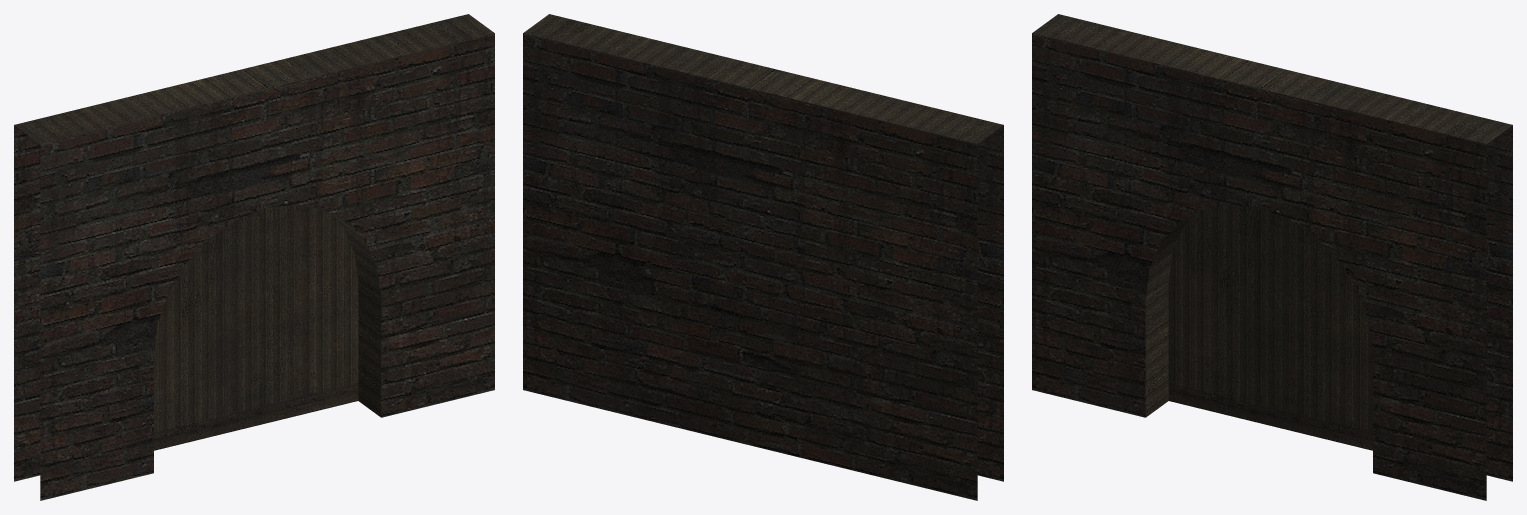
File: wall_hs_15.glb
3 renders of one model, left to right at view 1: azimuth 30°, elevation 25°; view 2: azimuth 150°, elevation 25°; view 3: azimuth 330°, elevation 25°, orthographic.
Visible parts, largest first — view 1: wall_hs_15; view 2: wall_hs_15; view 3: wall_hs_15.
Boxes of the visible parts, x1,y1,x2,y2 form: wall_hs_15: [14, 14, 494, 500]; wall_hs_15: [523, 14, 1003, 500]; wall_hs_15: [1032, 14, 1512, 500].
Size of the model in its own units: 4 by 3 by 0.4.
2 materials, 2 textured.
